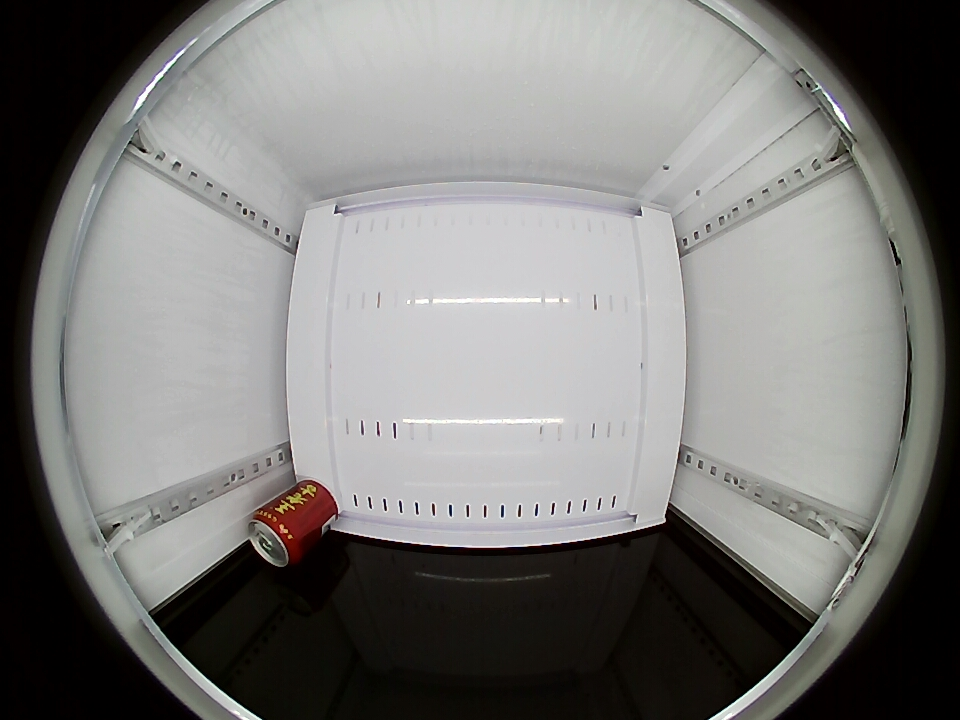wanglaoji-c: (248, 505, 304, 567)
